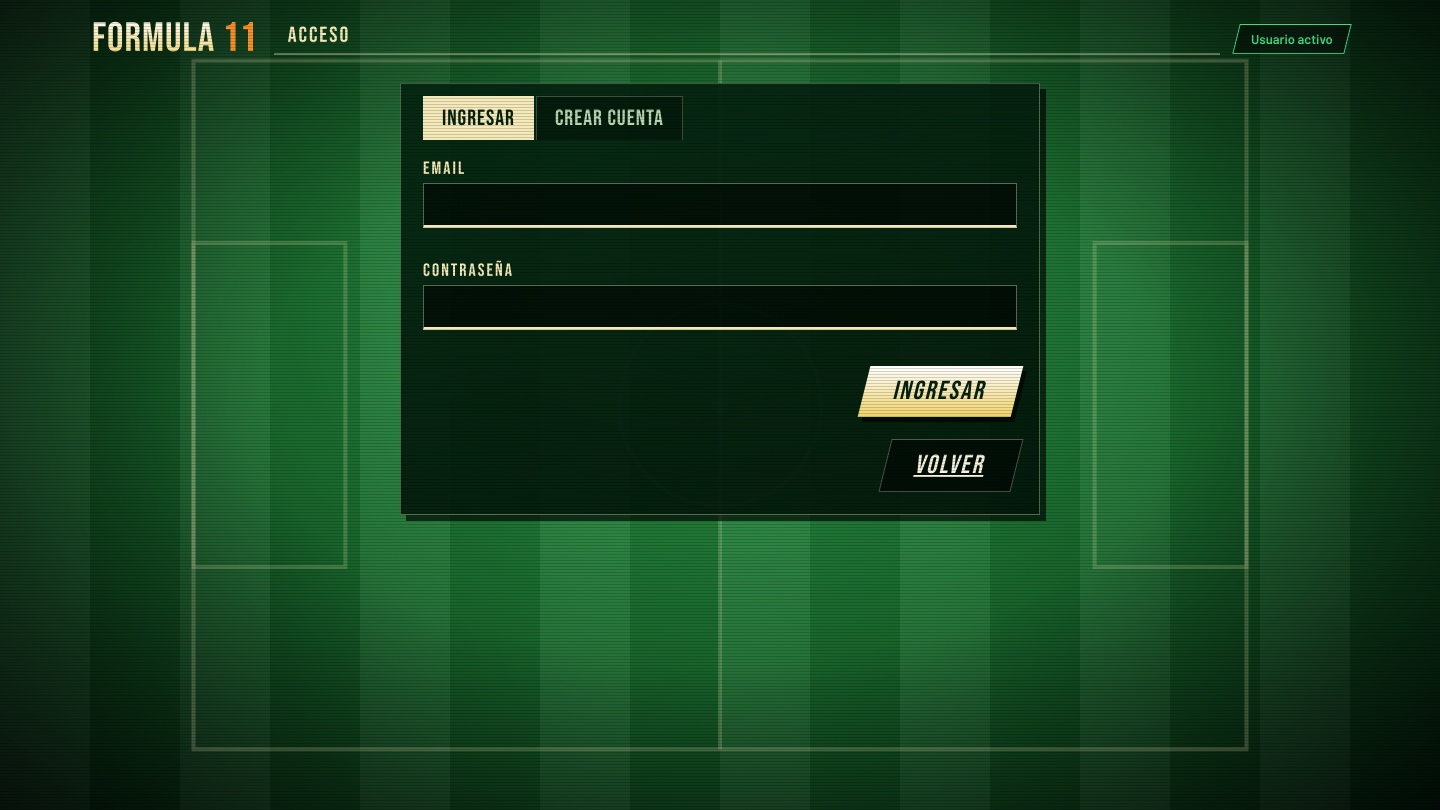
ingreso › conserva una sesión existente cuando login responde 401
Step 1. Type "invalida@example.com" into the field labelled "Email" → (720, 206), box x1=423 y1=183 x2=1017 y2=228
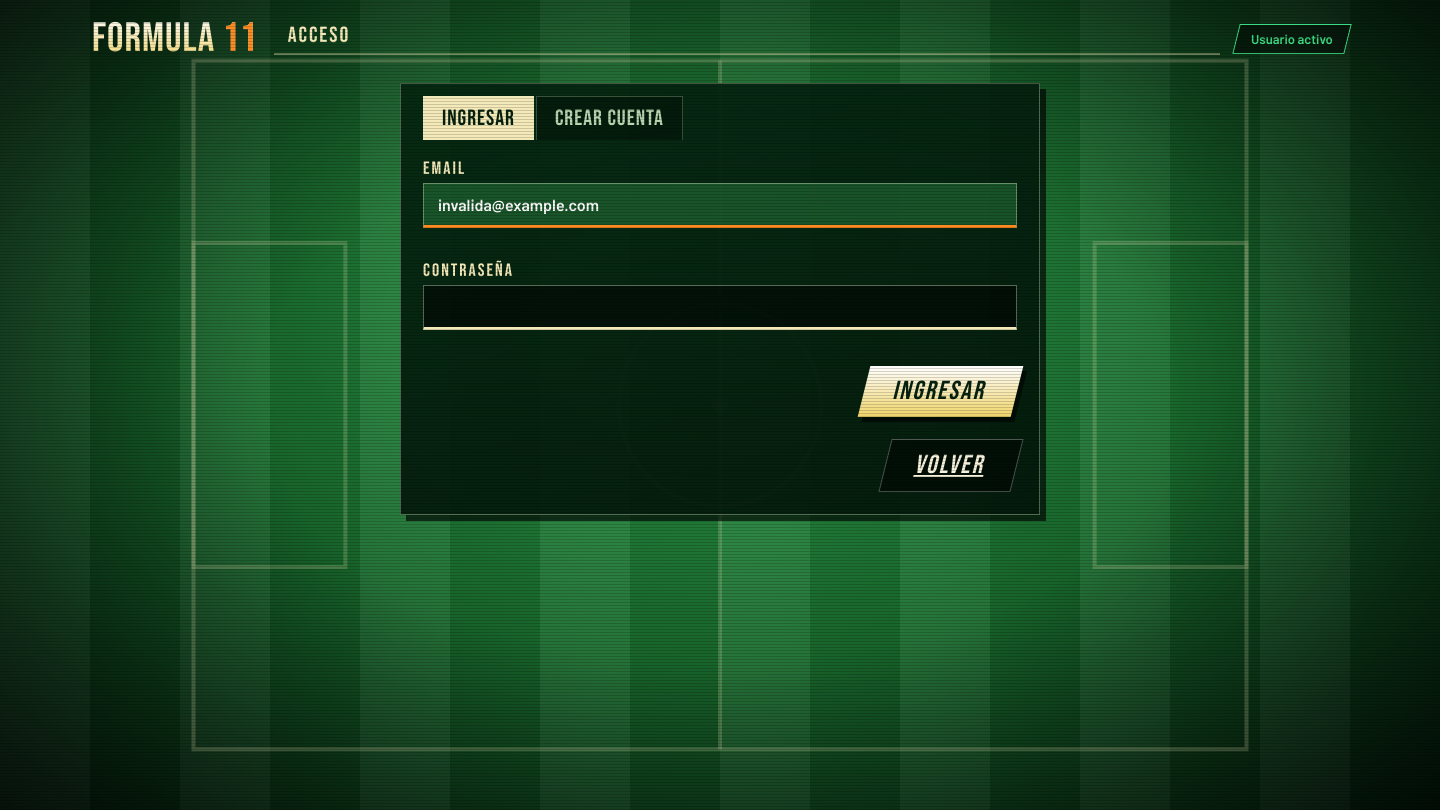
Step 2. Type "Secreto123!" into the password field labelled "Contraseña" → (720, 308), box x1=423 y1=285 x2=1017 y2=330
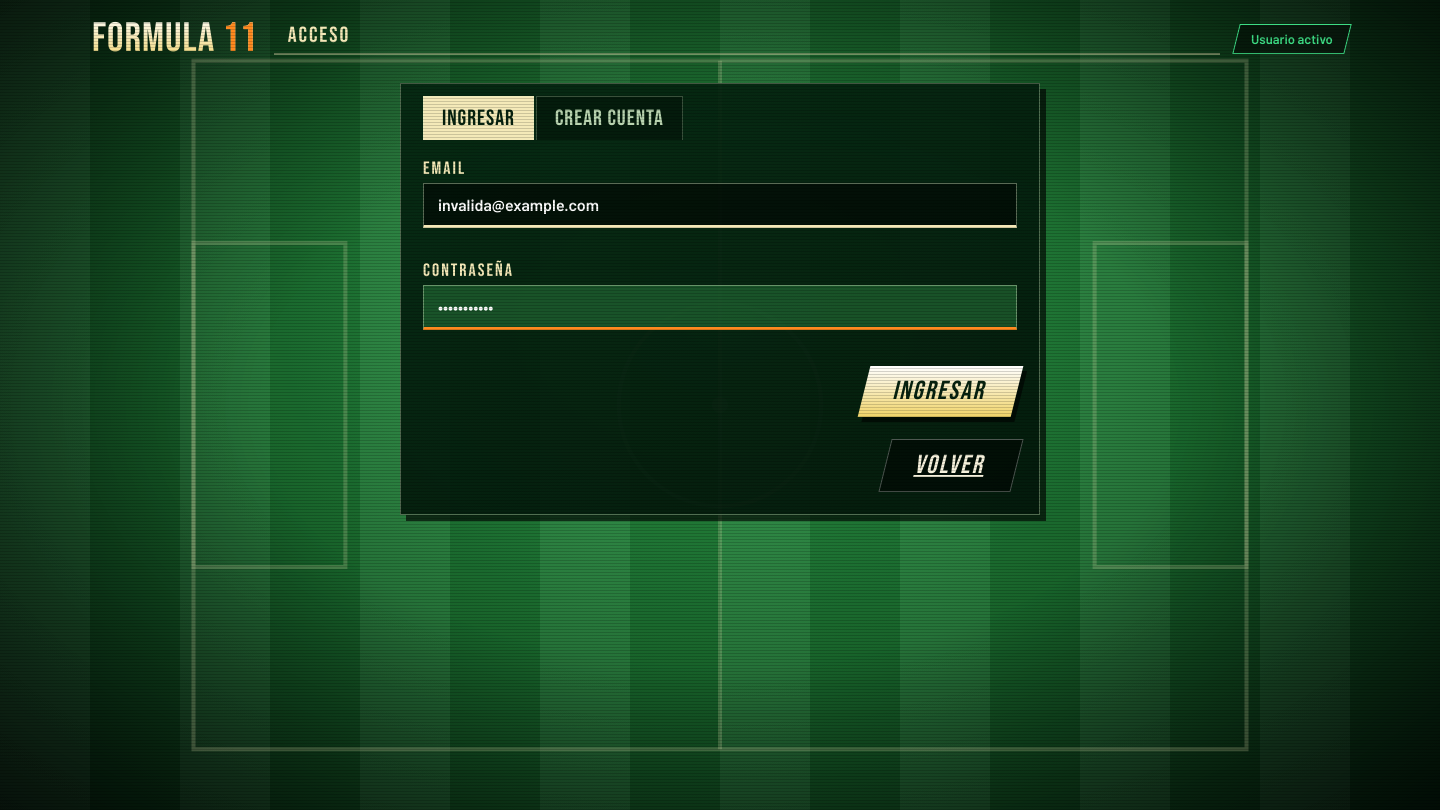
Step 3. Click the button "Ingresar" → (941, 392), box x1=858 y1=366 x2=1023 y2=417
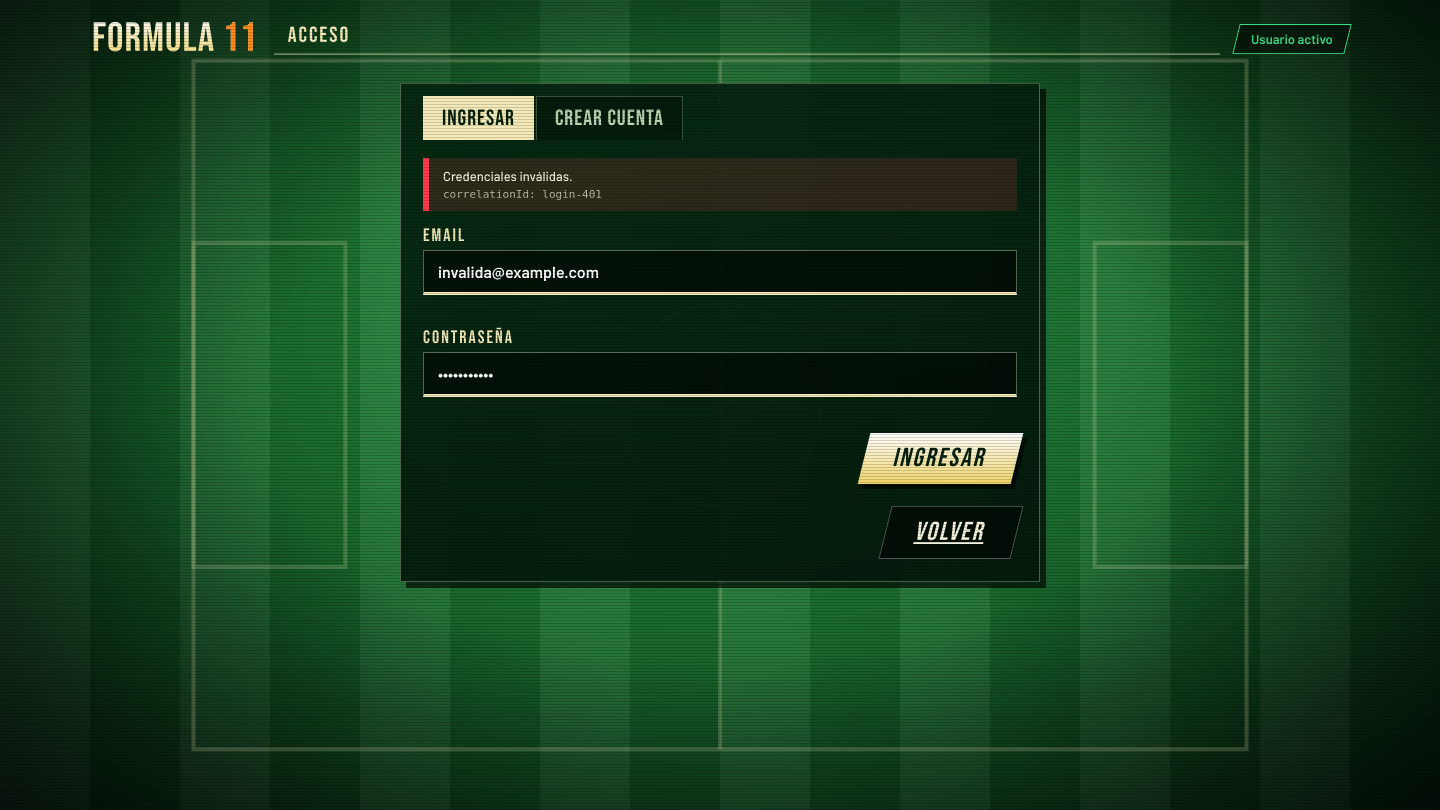
Now the text "Credenciales inválidas." is shown, box x1=443 y1=168 x2=573 y2=184
